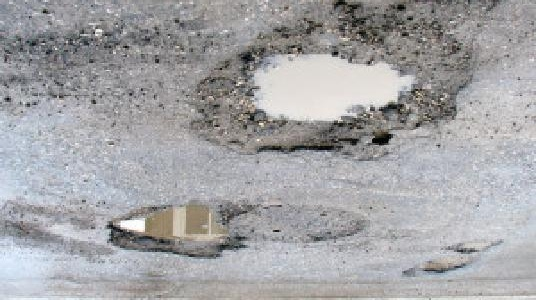pothole: (188, 0, 475, 160), (102, 200, 259, 261), (402, 254, 470, 280), (445, 236, 503, 254)
